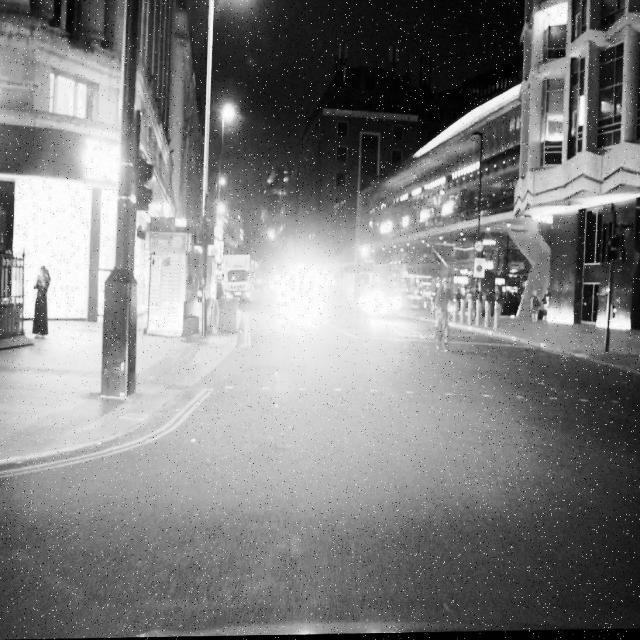Truck: (221, 256, 251, 300)
